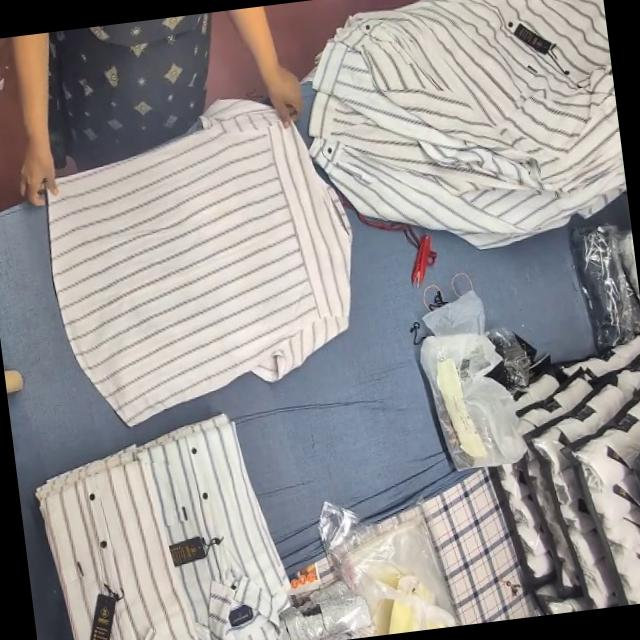new-garment: (48, 100, 350, 424)
